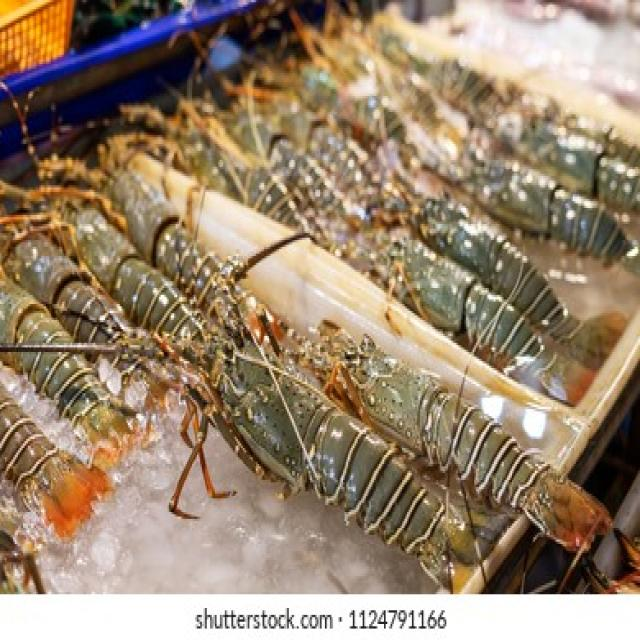Lobster: (0, 160, 609, 589), (370, 167, 624, 368), (344, 228, 593, 403), (461, 131, 640, 263), (0, 390, 107, 535)
